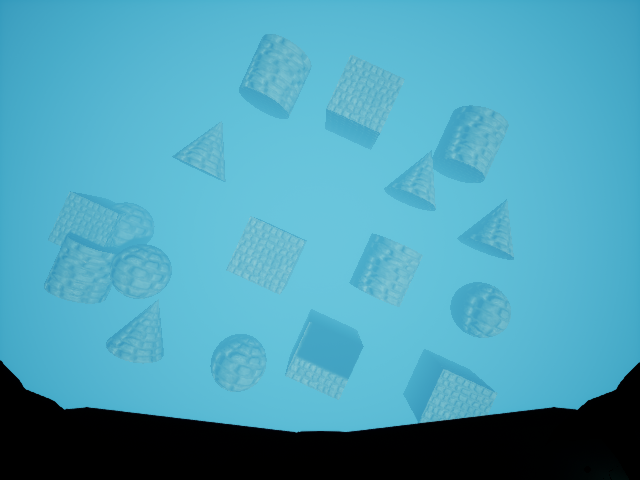box: (274, 297, 374, 405), (322, 47, 405, 148), (220, 211, 307, 302), (407, 342, 500, 425)
cone: (97, 286, 176, 375), (454, 185, 525, 268), (381, 140, 442, 217), (170, 117, 238, 183)
cylinder: (428, 94, 515, 186), (236, 20, 309, 122), (348, 227, 419, 314)
sphere: (445, 271, 522, 350), (193, 328, 276, 398), (104, 238, 180, 299)
